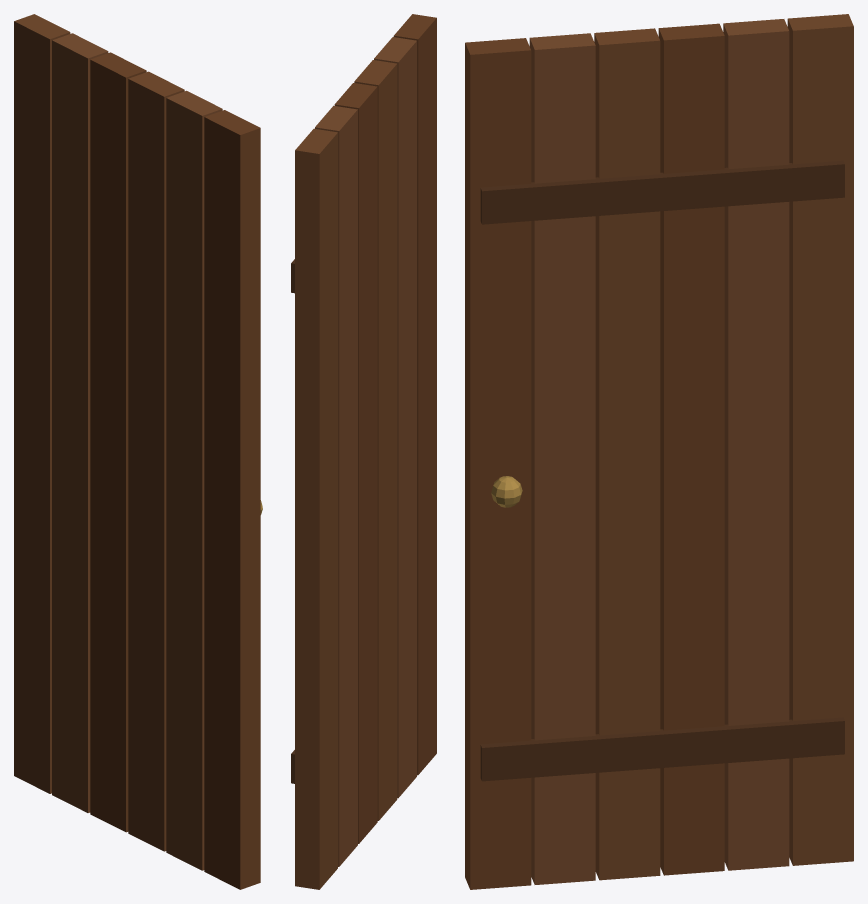
The model's file is Hut_Door.fbx.
3 views of the same model, side by side, from view 1: azimuth 30°, elevation 25°; view 2: azimuth 150°, elevation 25°; view 3: azimuth 270°, elevation 25° (orthographic). The views are drawn at different scales.
Parts seen in each view (by area): view 1: Hut_Door; view 2: Hut_Door; view 3: Hut_Door.
Boxes of the visible parts, <box> form: Hut_Door: <box>14,14,262,889</box>; Hut_Door: <box>291,14,436,889</box>; Hut_Door: <box>465,14,853,889</box>.
Bounding box in the file's own units: 9.65 × 75 × 31.64.
